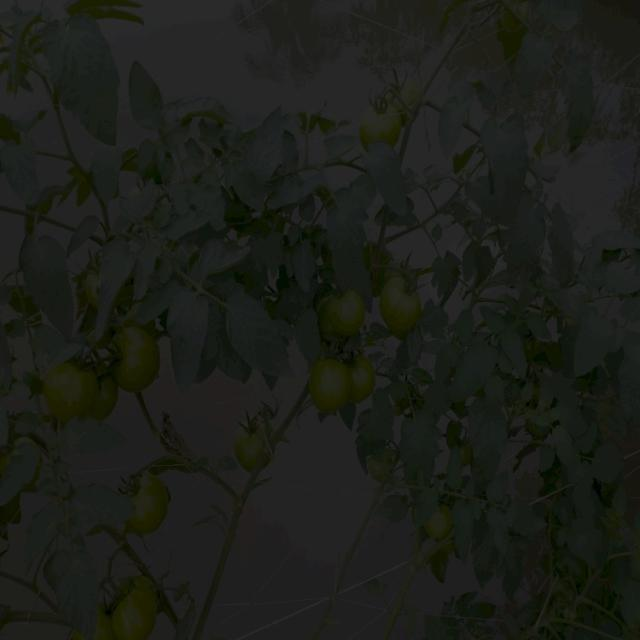tomato: (45, 361, 100, 431), (113, 579, 163, 640), (116, 329, 161, 394), (313, 353, 356, 418), (378, 273, 422, 334), (132, 471, 168, 540), (321, 289, 365, 345), (357, 106, 405, 150), (92, 364, 118, 424), (235, 427, 272, 469), (350, 350, 378, 400), (389, 73, 416, 118), (431, 502, 453, 542), (86, 260, 105, 306), (364, 455, 385, 480)
